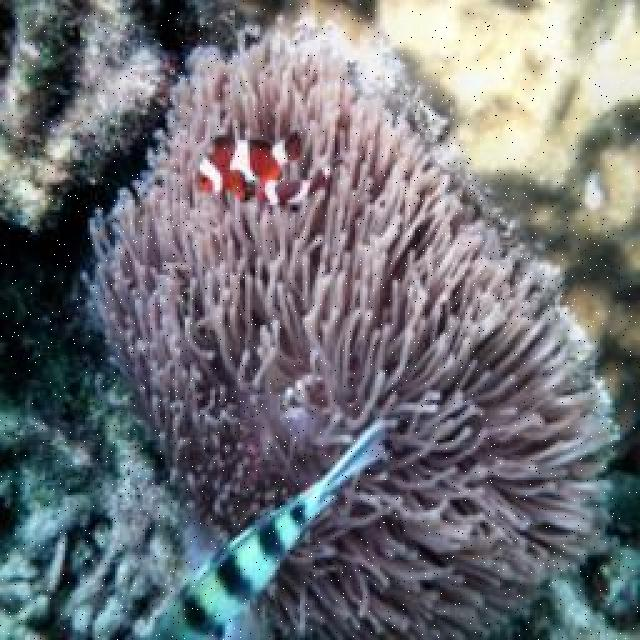fish: (138, 420, 385, 638), (198, 128, 304, 202), (257, 169, 327, 205)
reefs: (81, 17, 618, 638)
